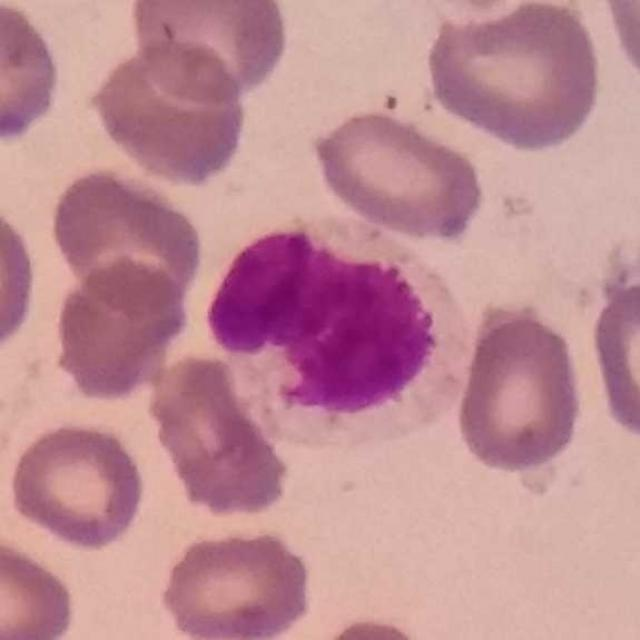Lymphocyte: (198, 222, 482, 452)
RBC: (420, 0, 606, 154), (144, 348, 296, 524), (86, 35, 252, 188), (308, 106, 488, 245), (46, 164, 207, 315), (450, 302, 588, 478), (48, 255, 192, 405), (6, 416, 149, 552), (155, 523, 317, 640), (128, 0, 293, 105), (585, 272, 640, 449), (0, 0, 65, 147), (0, 534, 80, 640), (0, 197, 41, 362), (593, 0, 640, 96), (304, 613, 444, 640)
